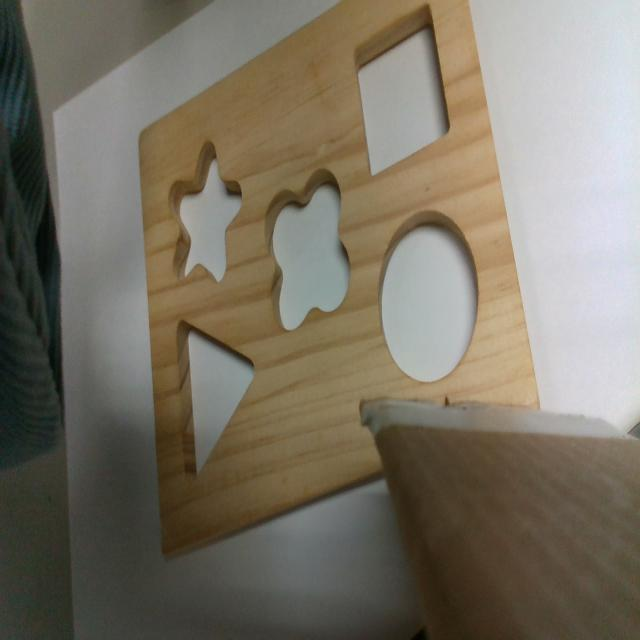circle: (377, 214, 479, 382)
flower: (263, 170, 350, 330)
square: (352, 0, 454, 184)
star: (169, 137, 241, 281)
triangle: (175, 318, 257, 484)
